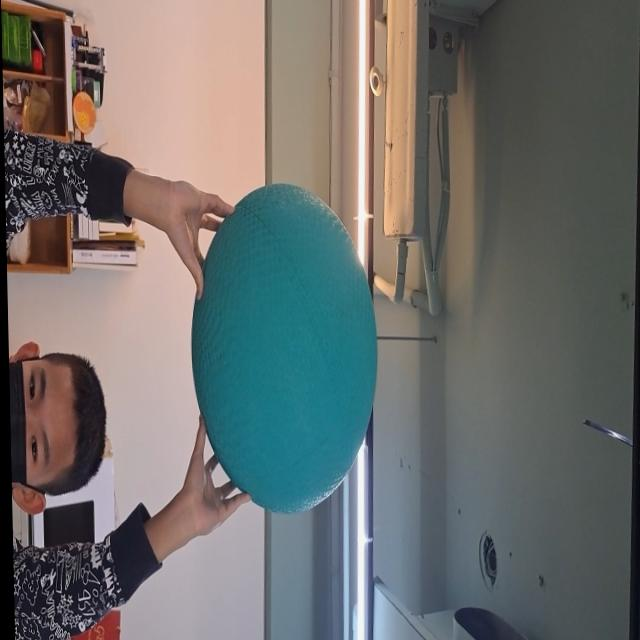ALGAE: (188, 186, 381, 514)
